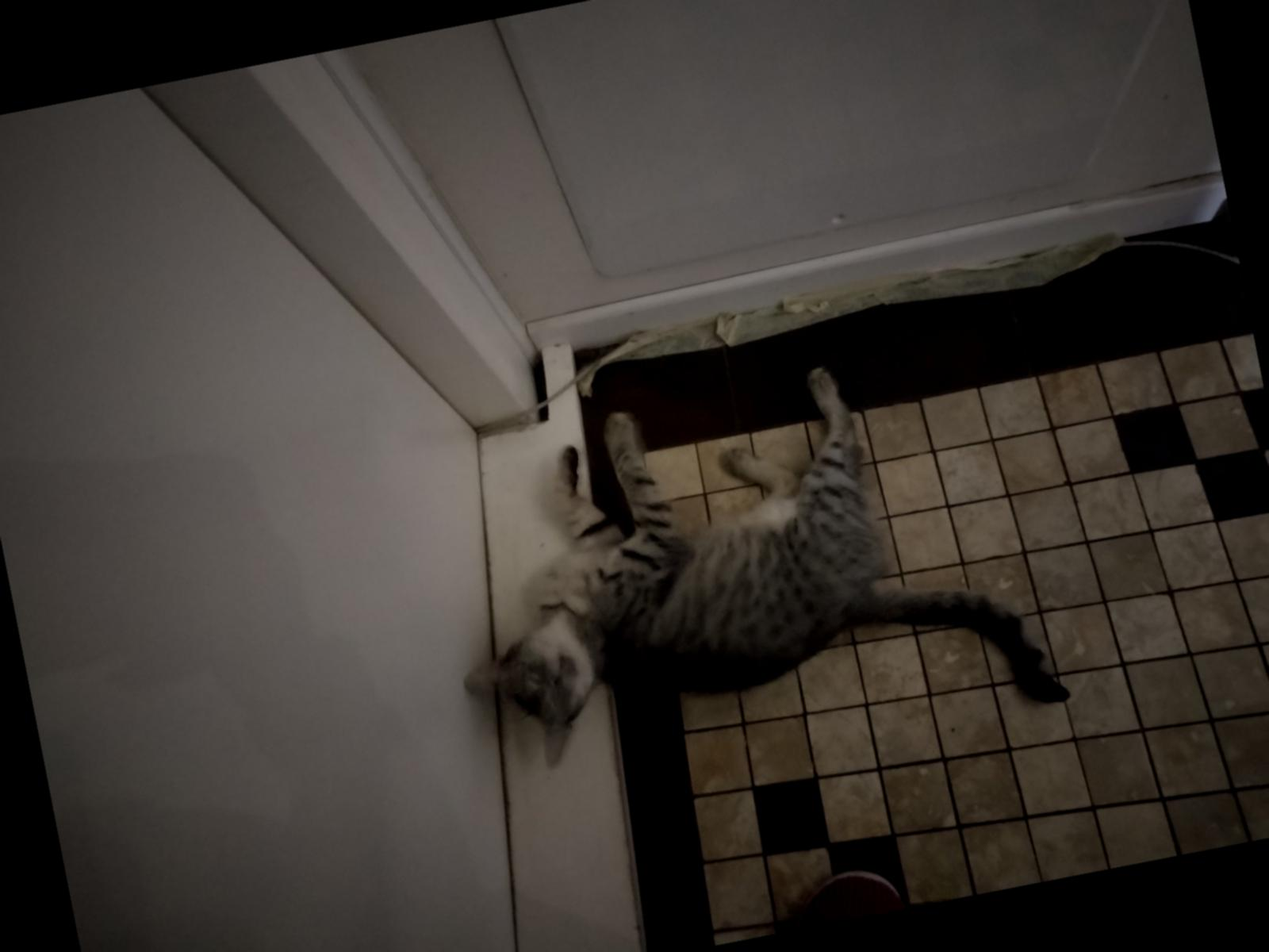macka: (415, 334, 1080, 818)
